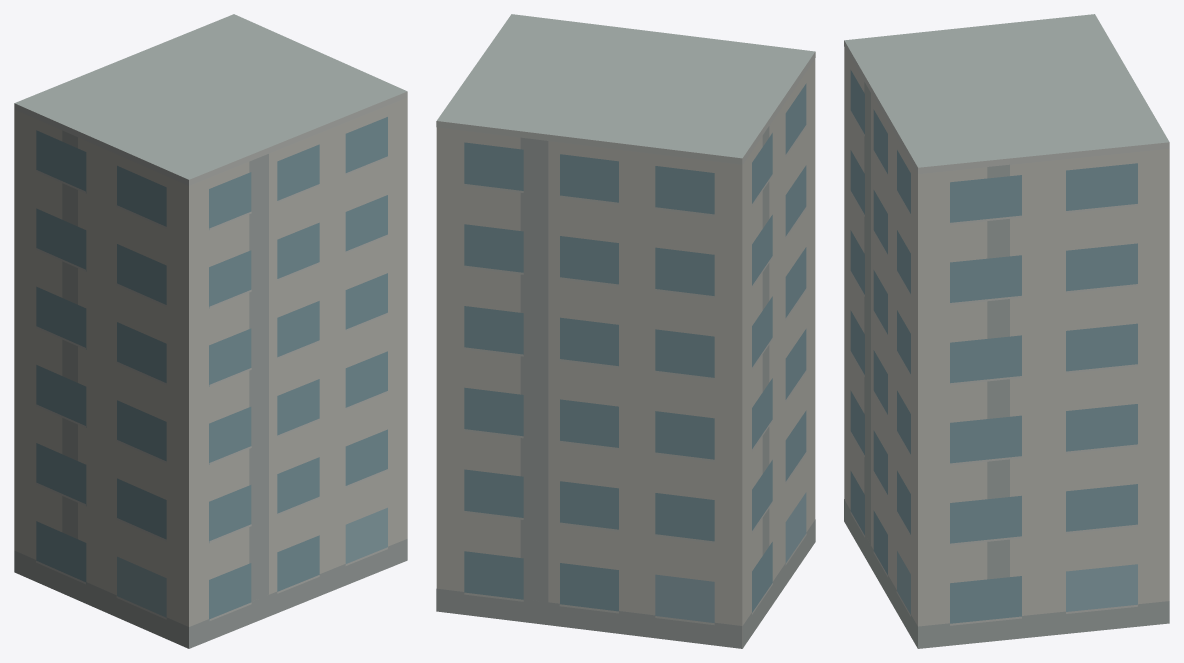
The model's file is survey-upis-32838338.glb.
3 views of the same model, side by side, from view 1: azimuth 30°, elevation 25°; view 2: azimuth 150°, elevation 25°; view 3: azimuth 270°, elevation 25° (orthographic). The views are drawn at different scales.
Visible parts, largest first — view 1: survey-upis-32838338.tmp; view 2: survey-upis-32838338.tmp; view 3: survey-upis-32838338.tmp.
Boxes of the visible parts, <box> form: survey-upis-32838338.tmp: <box>14,14,407,648</box>; survey-upis-32838338.tmp: <box>436,14,815,648</box>; survey-upis-32838338.tmp: <box>844,14,1169,648</box>.
Size of the model in its own units: 12.82 by 18.7 by 11.48.
